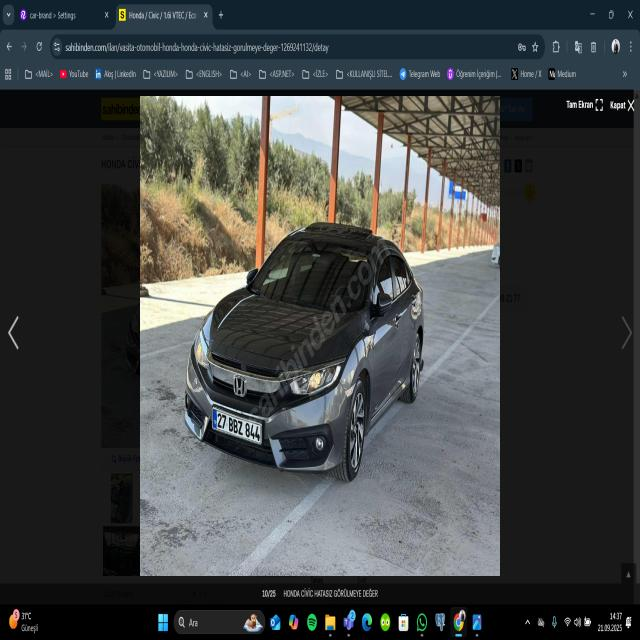honda: (229, 366, 251, 402)
